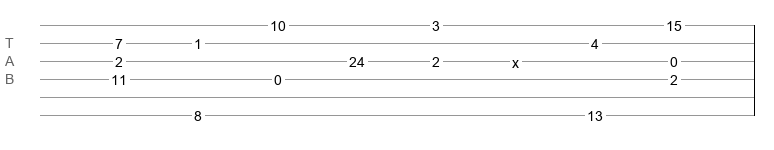0: (274, 72, 282, 82), (670, 54, 678, 64)
1: (194, 36, 202, 46)
10: (270, 18, 286, 28)
11: (111, 72, 127, 82)
13: (587, 108, 603, 118)
15: (666, 18, 682, 28)
2: (115, 54, 123, 64), (432, 54, 440, 64), (670, 72, 678, 82)
24: (349, 54, 365, 64)
3: (432, 18, 440, 28)
4: (591, 36, 599, 46)
7: (115, 36, 123, 46)
8: (194, 108, 202, 118)
x: (512, 55, 519, 63)
